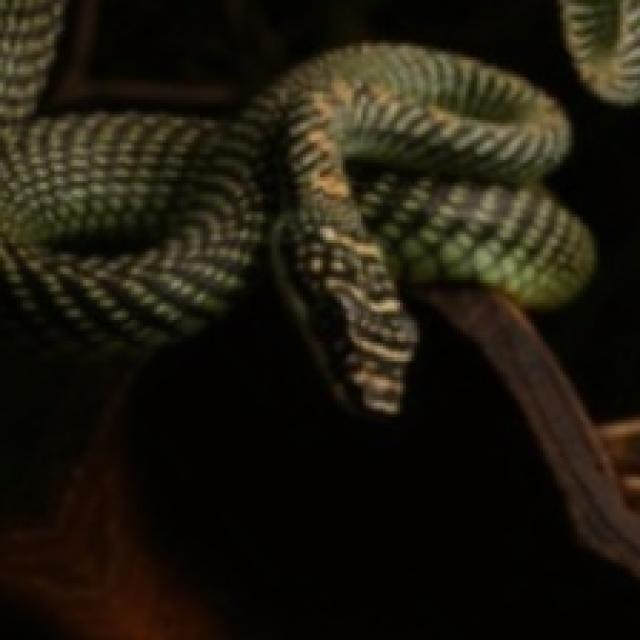paradise tree snake: (0, 43, 591, 411)
